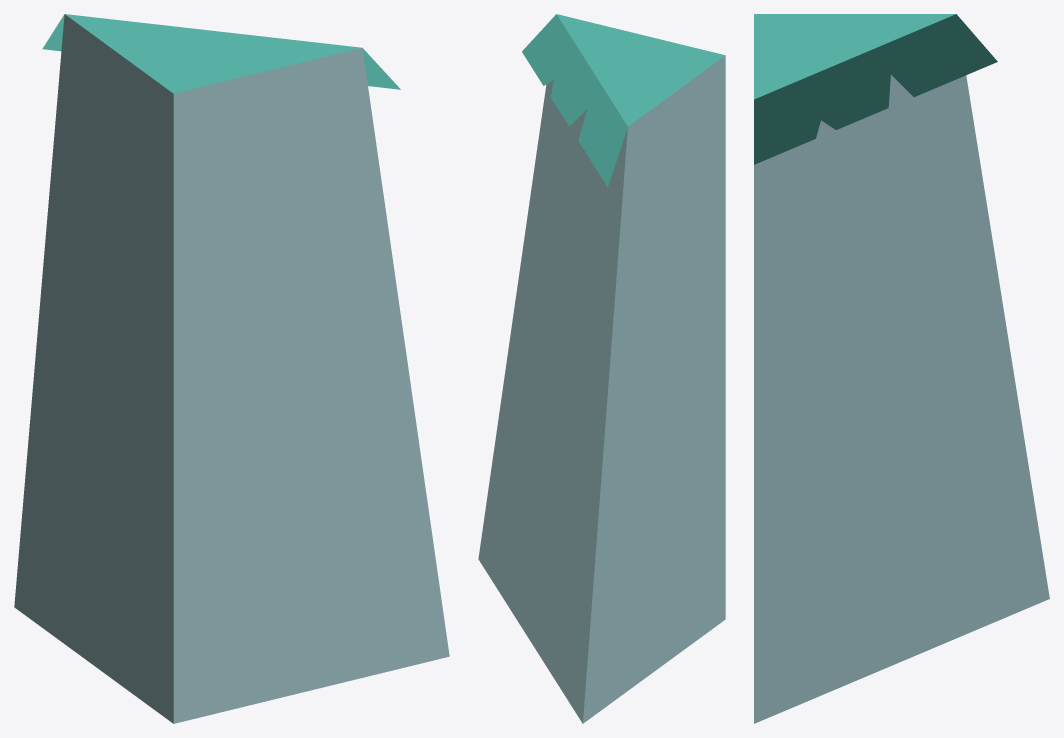
The model's file is cliffGrey_cornerTop.obj.
3 views of the same model, side by side, from view 1: azimuth 30°, elevation 25°; view 2: azimuth 150°, elevation 25°; view 3: azimuth 270°, elevation 25° (orthographic). The views are drawn at different scales.
Visible parts, largest first — view 1: cliffGrey_cornerTop; view 2: cliffGrey_cornerTop; view 3: cliffGrey_cornerTop.
Part boxes in pixels (x1=…): cliffGrey_cornerTop: x1=14, y1=14, x2=449, y2=723; cliffGrey_cornerTop: x1=478, y1=14, x2=725, y2=723; cliffGrey_cornerTop: x1=754, y1=14, x2=1049, y2=723.
Bounding box in the file's own units: 4.58 × 10 × 4.58.
